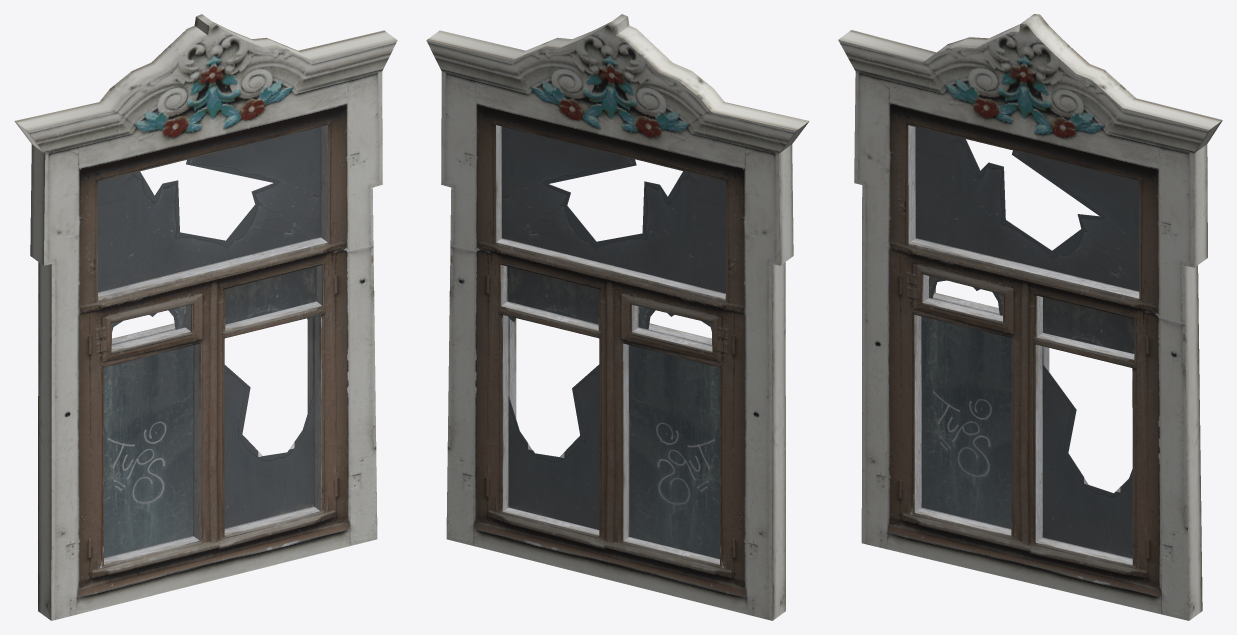
File: Windows_03_2.FBX
3 views of the same model, side by side, from view 1: azimuth 30°, elevation 25°; view 2: azimuth 150°, elevation 25°; view 3: azimuth 330°, elevation 25° (orthographic).
Parts seen in each view (by area): view 1: Windows_03_2, Windows_03_2glass (×4); view 2: Windows_03_2, Windows_03_2glass (×4); view 3: Windows_03_2, Windows_03_2glass (×4).
Part boxes in pixels (<box>): Windows_03_2: <box>14,14,397,620</box>; Windows_03_2glass (×4): <box>97,127,320,557</box>; Windows_03_2: <box>426,14,809,620</box>; Windows_03_2glass (×4): <box>502,126,726,558</box>; Windows_03_2: <box>838,14,1222,620</box>; Windows_03_2glass (×4): <box>915,127,1139,558</box>.
Bounding box in the file's own units: 135 × 8.55 × 195.
2 materials, 2 textured.
